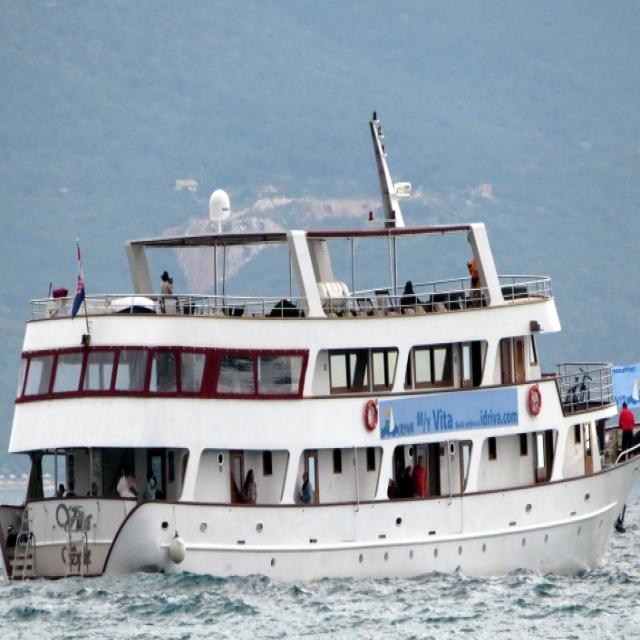cruises: (1, 107, 640, 599)
